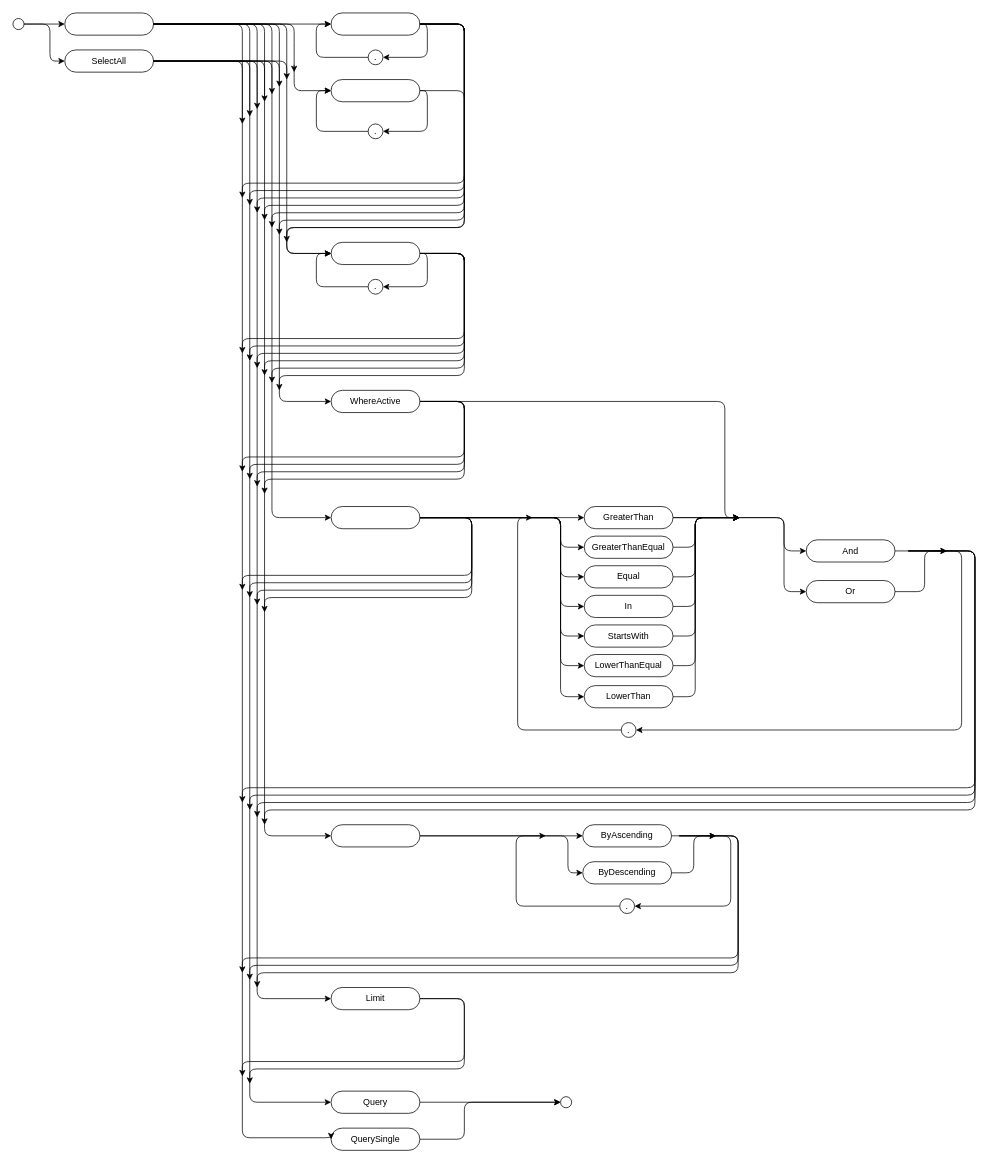
The diagram is 994 pixels wide and 1163 high, and some of its shapes have lost their labels. Here are the shapes that lost their labels. From the top down, the centre of each, then its label:
pixel 109 23: Select
pixel 375 23: Column
pixel 375 90: ColumnRef
pixel 375 253: InnerJoin
pixel 375 517: Where
pixel 375 835: Order
